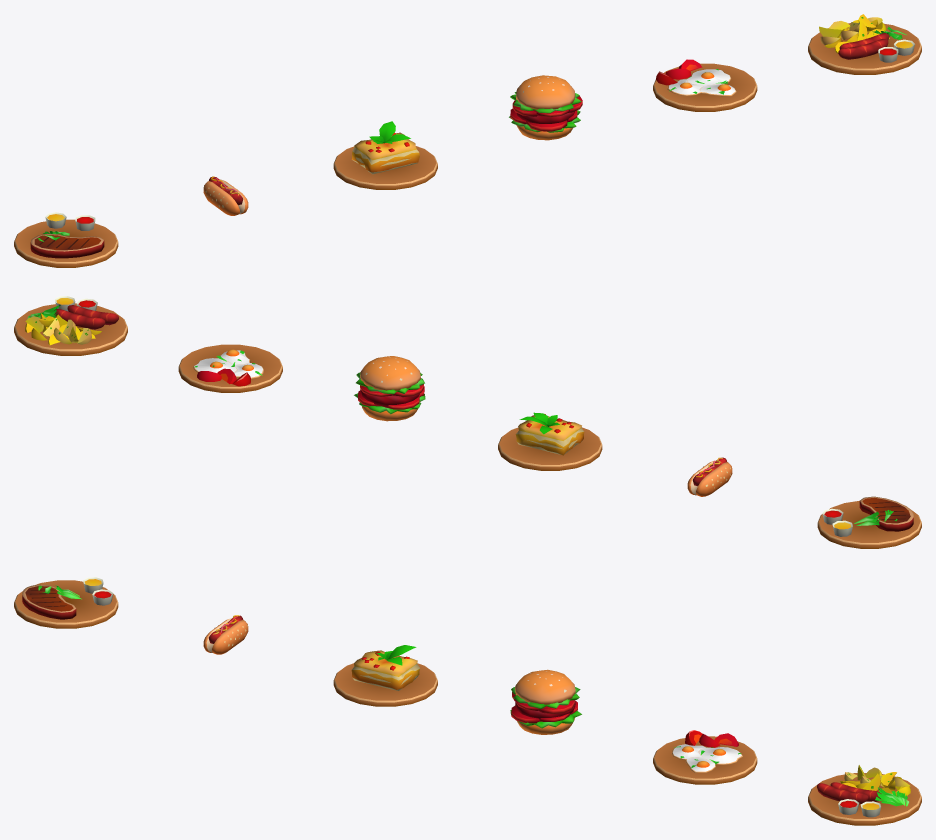
Rendered from Dishes.fbx.
3 views of the same model, one above another, from view 1: azimuth 30°, elevation 25°; view 2: azimuth 150°, elevation 25°; view 3: azimuth 330°, elevation 25° (orthographic).
Parts seen in each view (by area): view 1: HomemadePotatoes, LasagnaWithPotatoes, StakeInSauces, EggWithHerbsAndTomatoes, Burger, Hotdog; view 2: HomemadePotatoes, LasagnaWithPotatoes, StakeInSauces, EggWithHerbsAndTomatoes, Burger, Hotdog; view 3: HomemadePotatoes, LasagnaWithPotatoes, EggWithHerbsAndTomatoes, StakeInSauces, Burger, Hotdog.
Part boxes in pixels (x1,y1,x2,y2): HomemadePotatoes: [808, 14, 921, 74]; LasagnaWithPotatoes: [333, 121, 437, 189]; StakeInSauces: [14, 212, 118, 267]; EggWithHerbsAndTomatoes: [653, 59, 757, 111]; Burger: [509, 75, 582, 140]; Hotdog: [203, 176, 248, 215]; HomemadePotatoes: [14, 296, 127, 355]; LasagnaWithPotatoes: [498, 412, 602, 470]; StakeInSauces: [817, 496, 921, 548]; EggWithHerbsAndTomatoes: [178, 344, 282, 392]; Burger: [354, 356, 425, 421]; Hotdog: [687, 457, 732, 496]; HomemadePotatoes: [808, 765, 921, 825]; LasagnaWithPotatoes: [333, 645, 437, 706]; EggWithHerbsAndTomatoes: [653, 730, 757, 784]; StakeInSauces: [14, 577, 118, 628]; Burger: [510, 669, 581, 734]; Hotdog: [203, 615, 248, 654].
Bounding box in the file's own units: 11.17 × 0.597 × 1.24.
